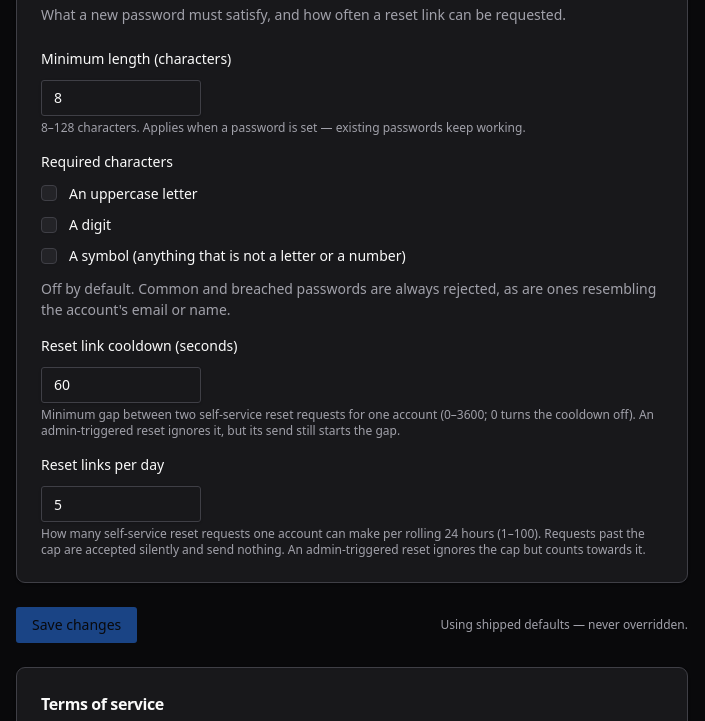
Test: SystemPreferencesPage › blocks an out-of-bounds Reset link cooldown (seconds) before any PATCH
(page scrolled)
Replace the text in the number field labelled "Reset link cooldown (seconds)" with "3601" at (121, 385), box [41, 367, 201, 403]
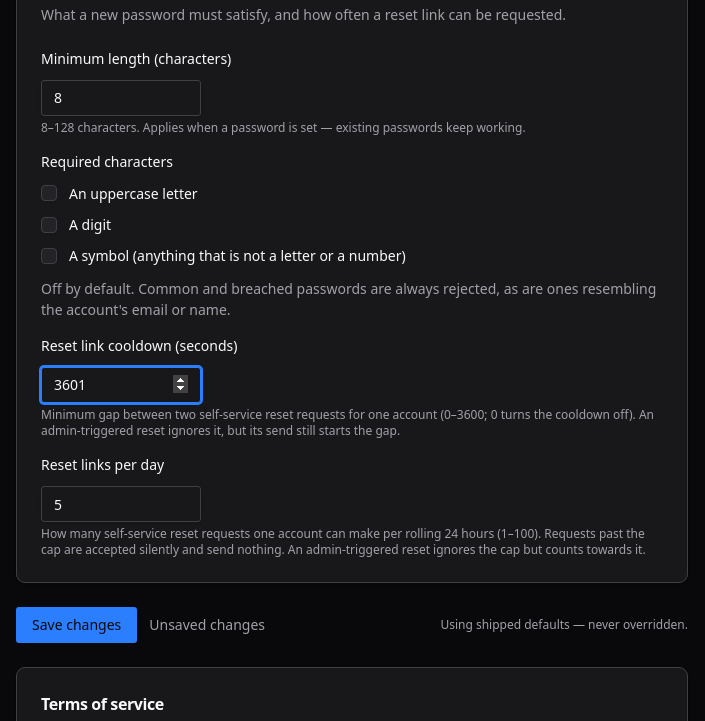
Click the button "Save changes".
click(77, 625)  # box [16, 607, 137, 643]
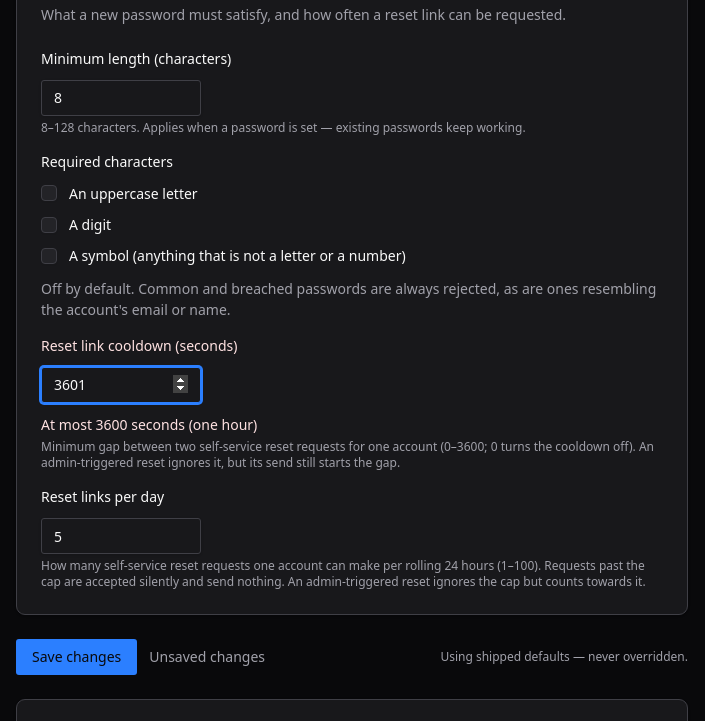
Expected: the text "At most 3600 seconds (one hour)" is shown, [41, 415, 257, 434]
